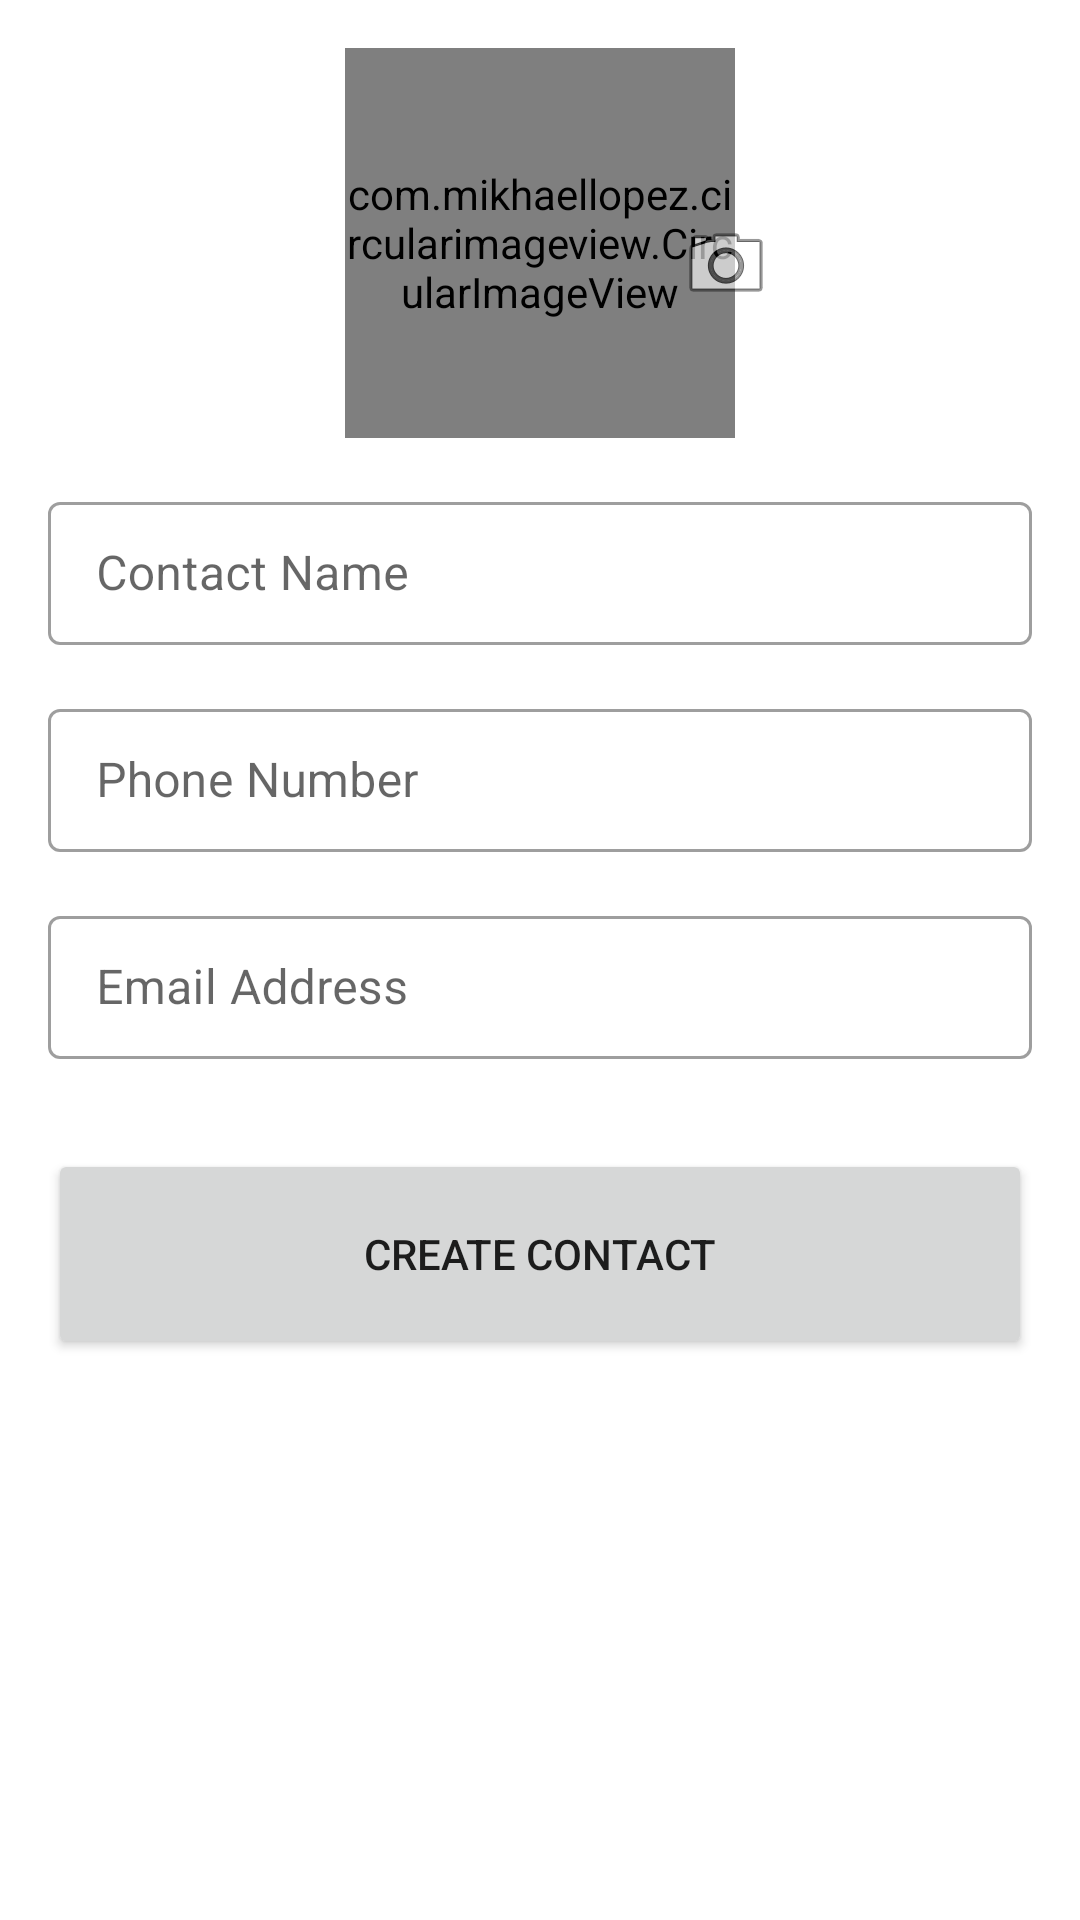

Icons on this 1080w x 1920h Android screen, each with the point to tap as point (x, y):
camera: point (726, 264)
